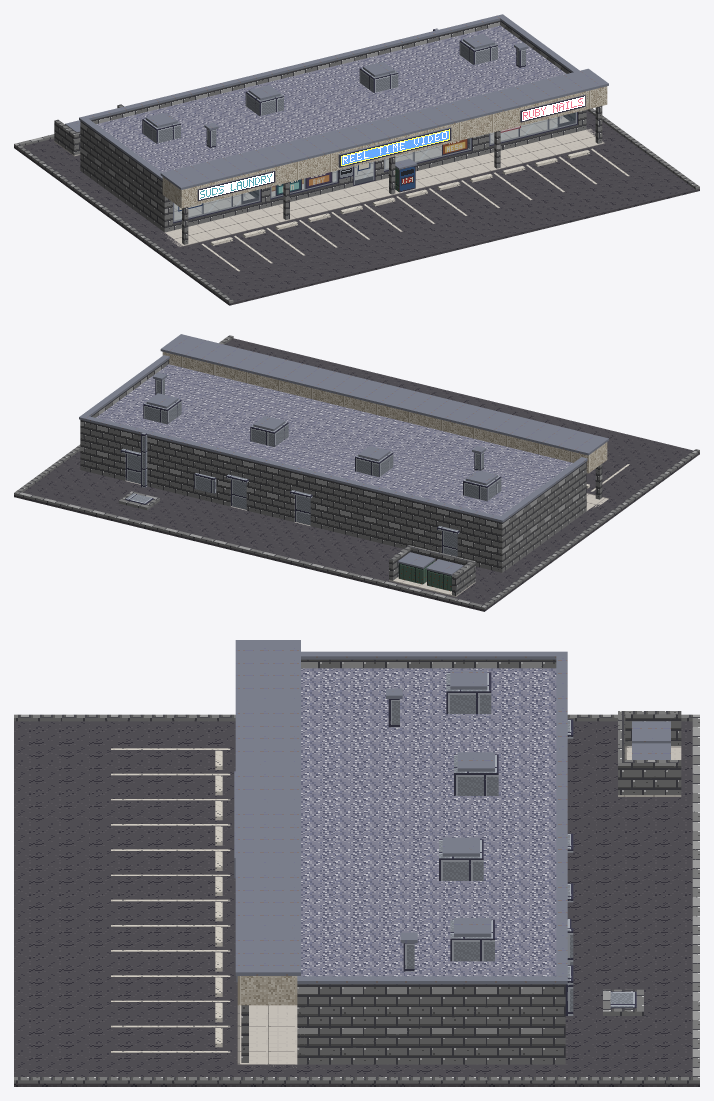
Rendered from reel-time-video-1996.glb.
The picture shows the model from 3 angles, top to bottom: view 1: azimuth 30°, elevation 25°; view 2: azimuth 150°, elevation 25°; view 3: azimuth 270°, elevation 25°; orthographic projection. The views are drawn at different scales.
Parts seen in each view (by area): view 1: structure, lot, parking_lot, rear_service, curb_props; view 2: structure, lot, rear_service; view 3: structure, lot, rear_service, parking_lot.
Part boxes in pixels (x1=…): structure: x1=79, y1=14, x2=608, y2=244; lot: x1=14, y1=108, x2=699, y2=305; parking_lot: x1=201, y1=148, x2=629, y2=271; rear_service: x1=54, y1=28, x2=438, y2=156; curb_props: x1=395, y1=158, x2=417, y2=192; structure: x1=79, y1=334, x2=608, y2=572; lot: x1=14, y1=335, x2=699, y2=611; rear_service: x1=118, y1=433, x2=475, y2=596; structure: x1=234, y1=640, x2=573, y2=1064; lot: x1=14, y1=714, x2=699, y2=1086; rear_service: x1=565, y1=711, x2=681, y2=1015; parking_lot: x1=111, y1=748, x2=230, y2=1052.
Size of what is drawn, in the model's own units: 36.01 by 4.97 by 28.56.
Materials: 11 (11 with a texture image).
